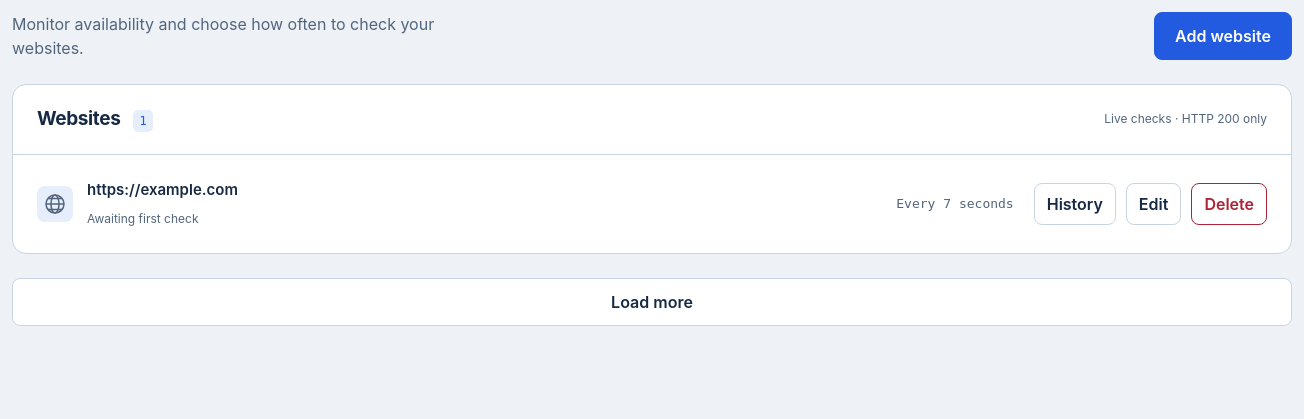
appends the next page and keeps existing rows when a page request fails
Click the button "Load more" at (652, 302), box [12,278,1292,326]
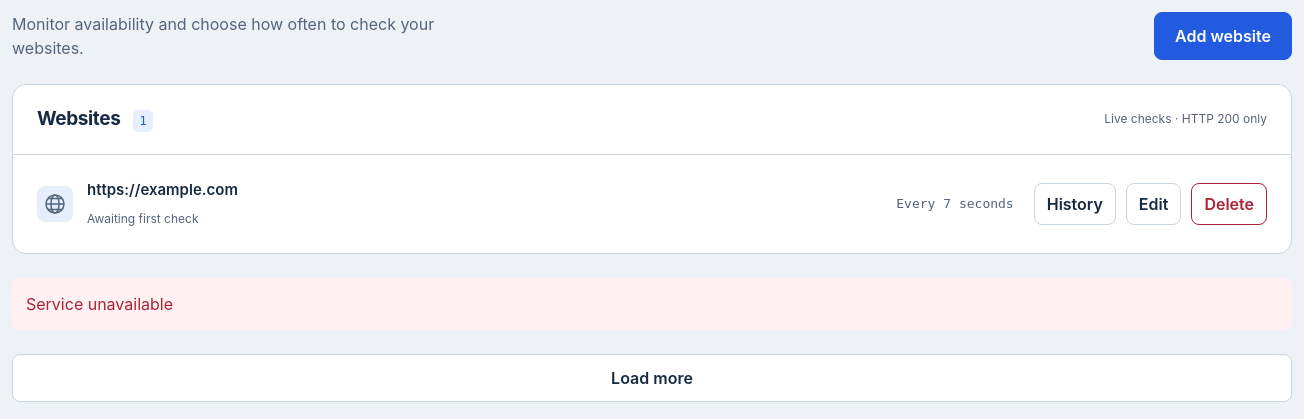
Expected: the text "https://example.com" is shown, [87,178,238,201]
Expected: the message reads "Service unavailable", [26,294,173,314]
Click the button "Load more" at (652, 378), box [12,354,1292,402]
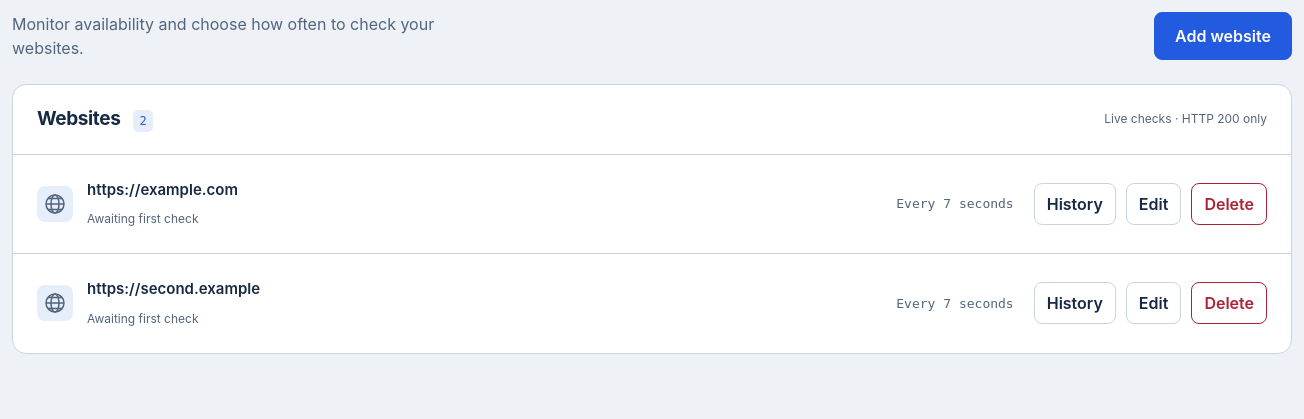
Expected: the text "https://second.example" is shown, [87,278,260,300]
Expected: the number of list items is 2, [37,180,1267,226]; [13,253,1291,352]
Expected: the button "Load more" is gone
